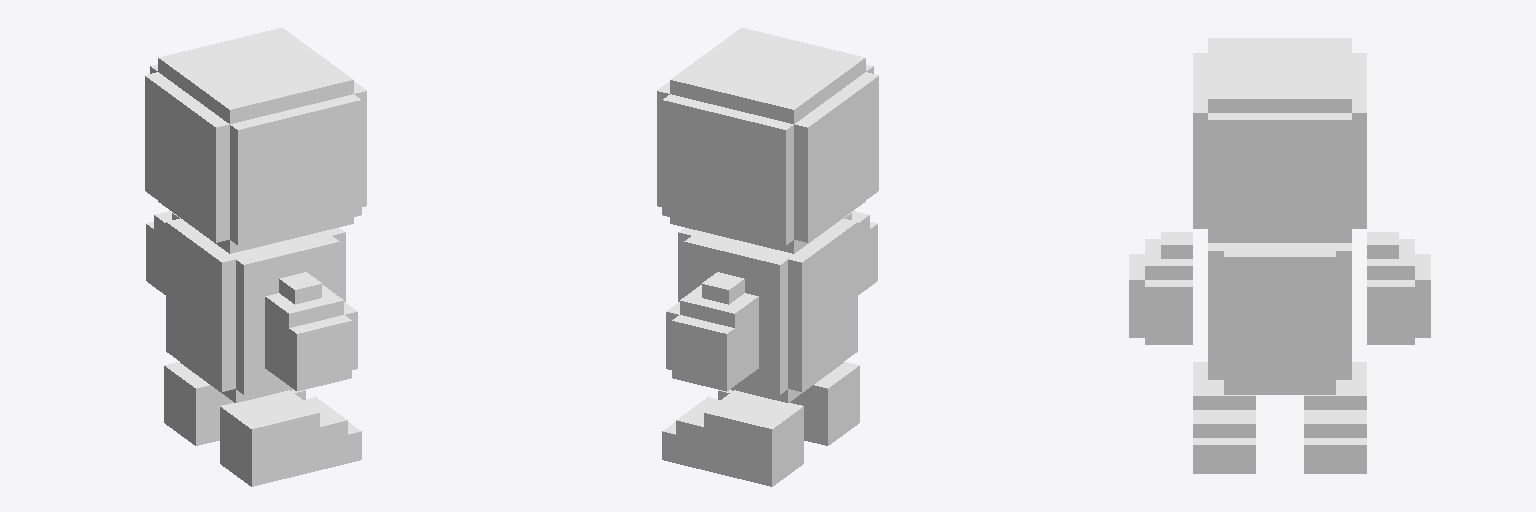
File: Body_Ori.obj
3 views of the same model, side by side, from view 1: azimuth 30°, elevation 25°; view 2: azimuth 150°, elevation 25°; view 3: azimuth 270°, elevation 25° (orthographic).
Parts seen in each view (by area): view 1: object 1; view 2: object 1; view 3: object 1.
Boxes of the visible parts, x1=… form: object 1: x1=145, y1=28, x2=366, y2=486; object 1: x1=657, y1=28, x2=878, y2=486; object 1: x1=1129, y1=38, x2=1430, y2=473.
Bounding box in the file's own units: 1.1 × 2.6 × 1.9.